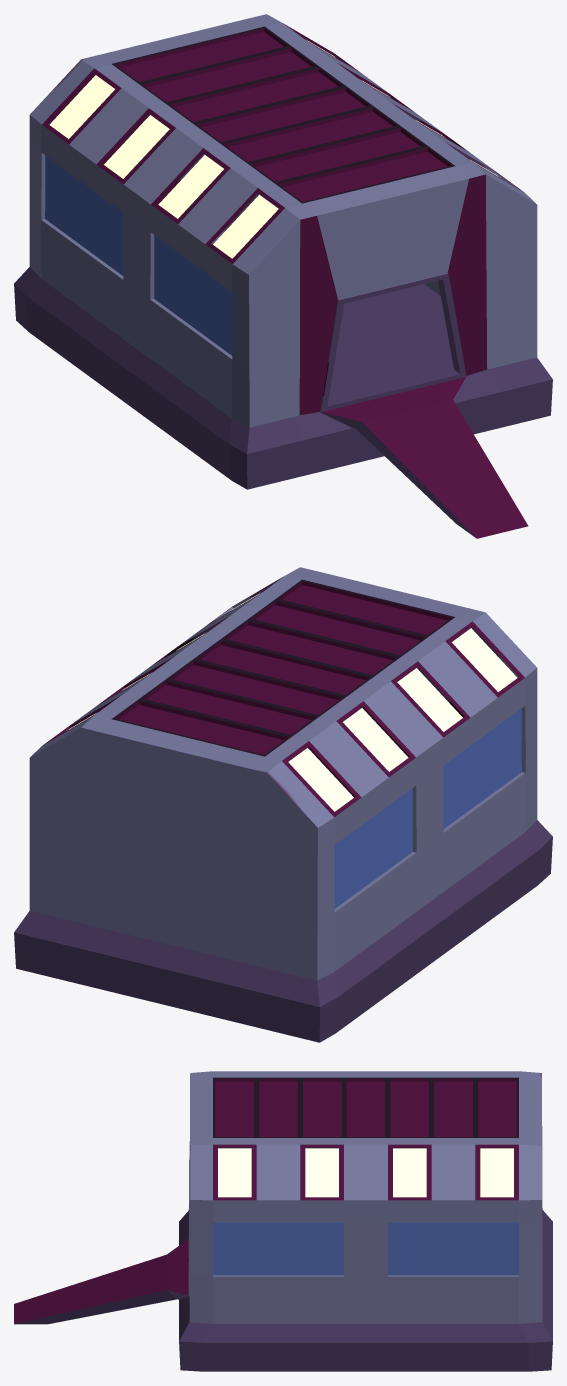
File: Almacen.fbx
3 views of the same model, one above another, from view 1: azimuth 30°, elevation 25°; view 2: azimuth 150°, elevation 25°; view 3: azimuth 270°, elevation 25° (orthographic). The views are drawn at different scales.
Parts seen in each view (by area): view 1: Almacen; view 2: Almacen; view 3: Almacen.
Part boxes in pixels (x1,y1,x2,y2): Almacen: (14, 14, 552, 538); Almacen: (14, 567, 552, 1042); Almacen: (14, 1071, 552, 1371).
Bounding box in the file's own units: 1671 × 1316 × 3114.
